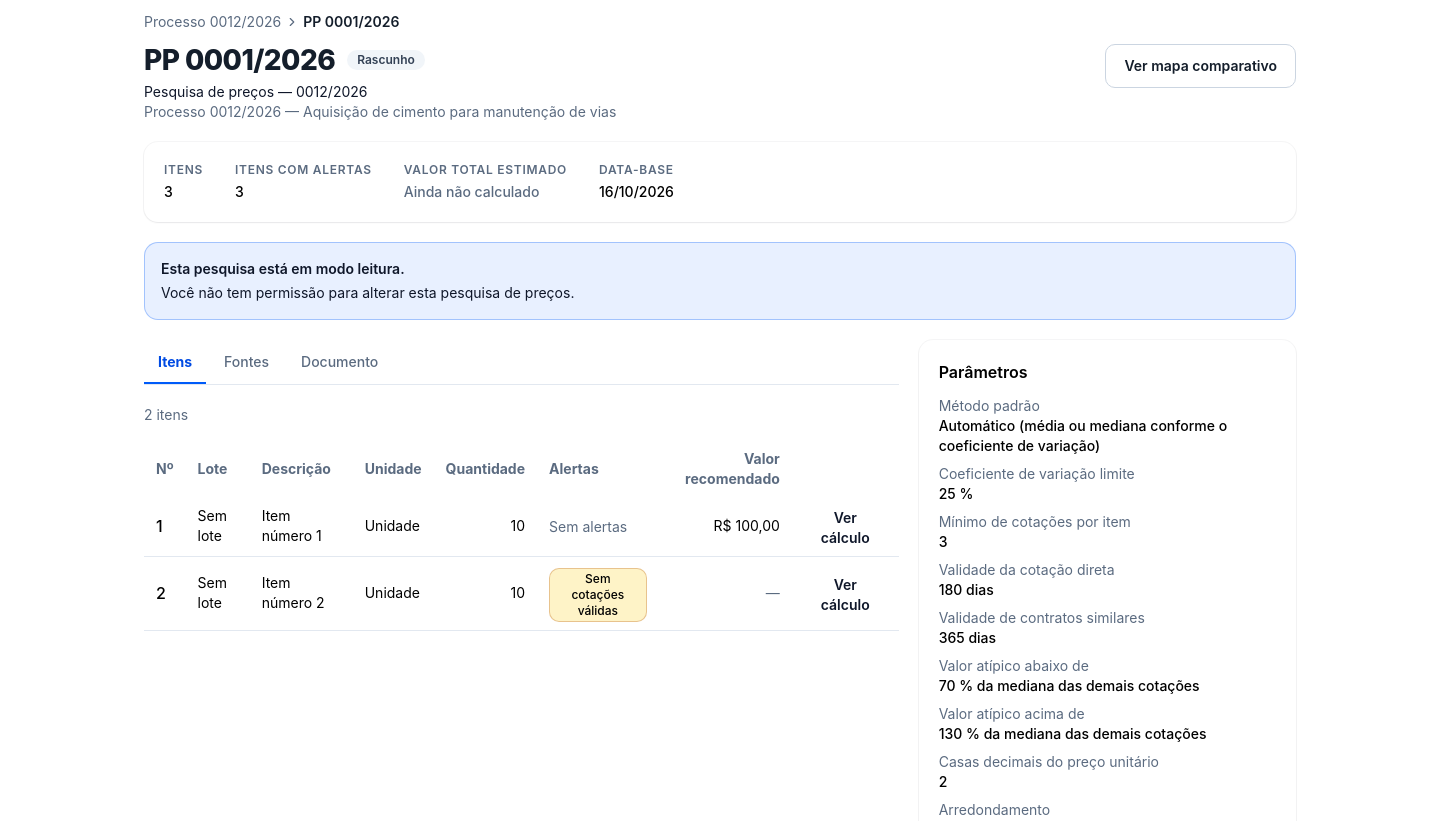
Test: Cálculo por item da SCR-009 (US-029) › sem UPDATE: estatísticas visíveis, sem método, sem "Recalcular agora" nem edição de parâmetros
Click the button "Ver cálculo" in the row of "Item número 1" at (845, 528), box [804,508,887,548]
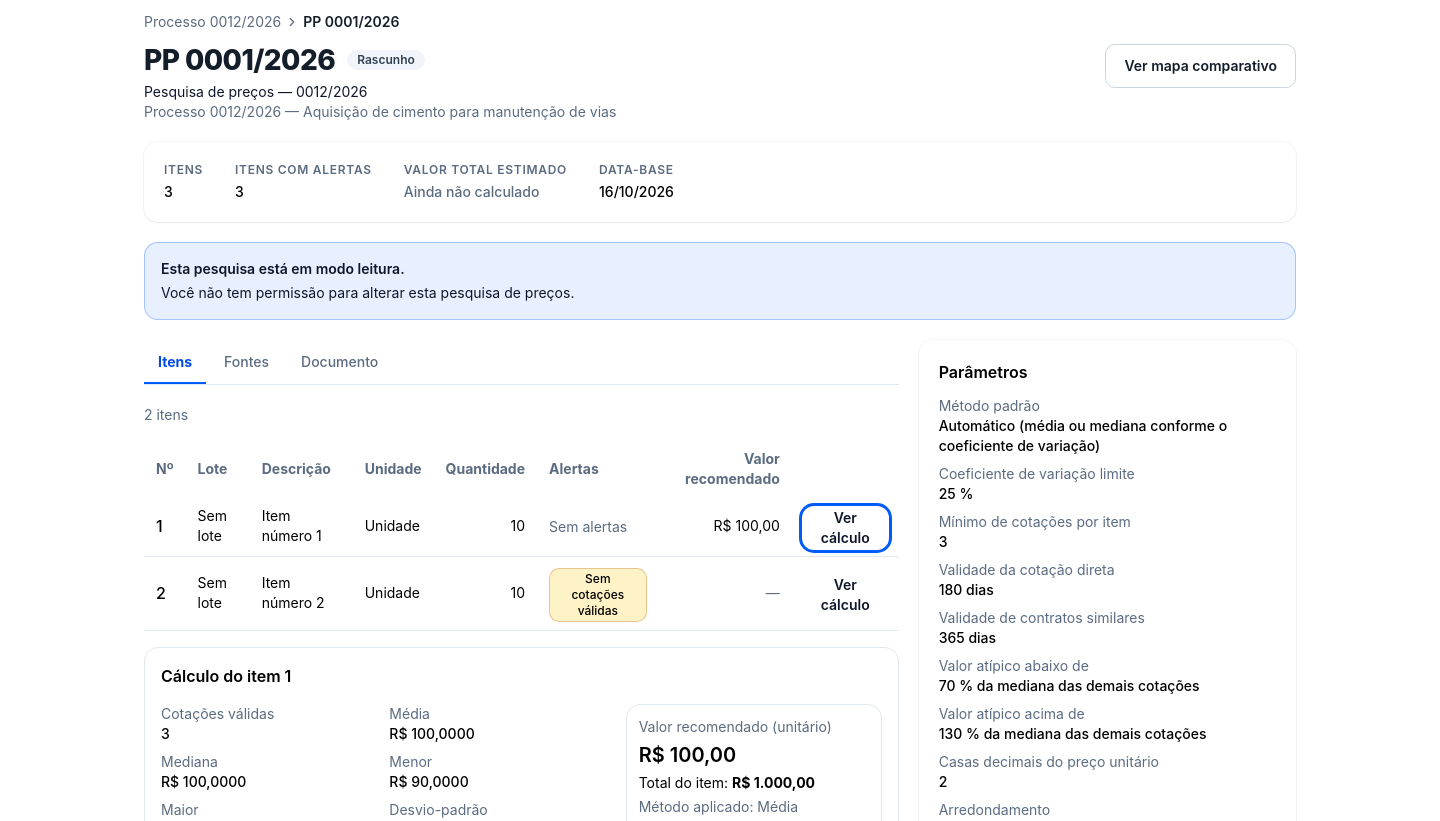
Expected: the text "R$ 100,00" below "Valor recomendado (unitário)" is shown, [639,743,736,767]
